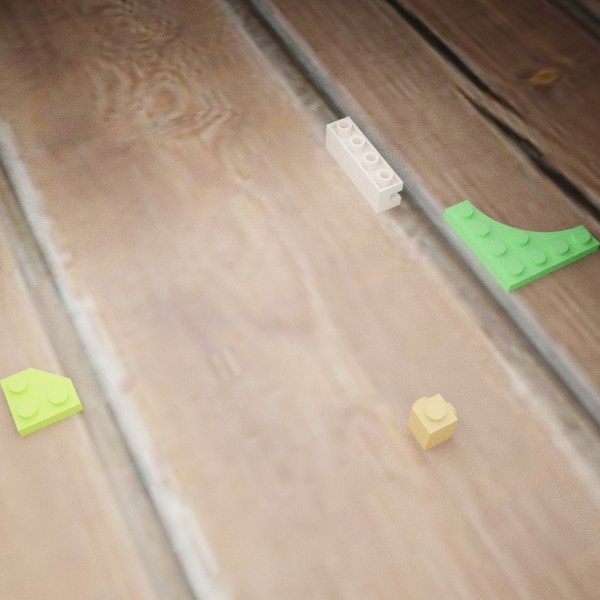lego: (443, 199, 600, 292), (325, 116, 403, 213), (0, 367, 83, 436), (407, 393, 457, 450)
